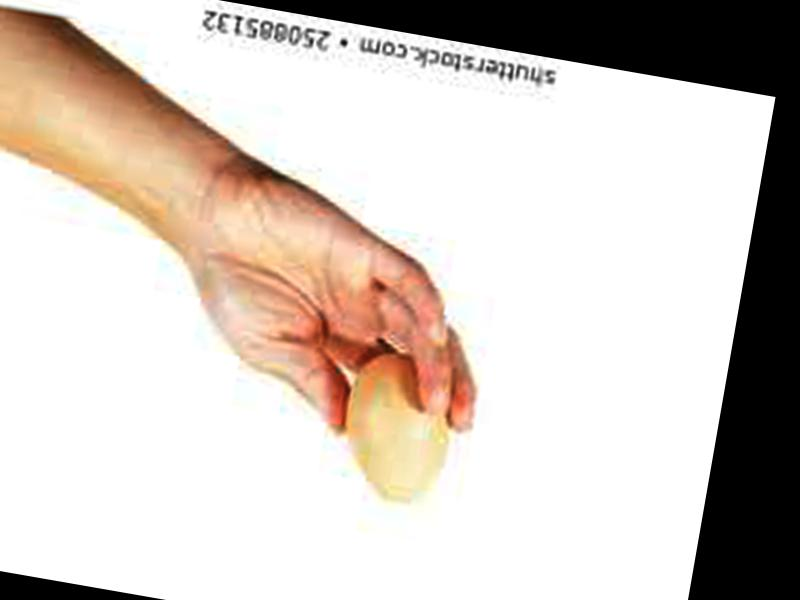Eggs: (332, 341, 462, 511)
